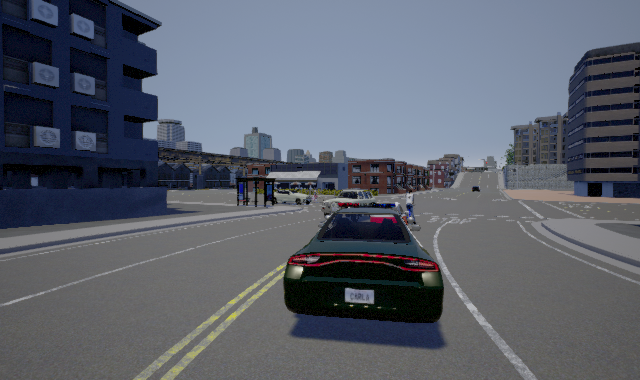bike: (404, 190, 417, 222)
vehicle: (283, 188, 444, 323), (320, 189, 379, 217), (274, 190, 317, 205)
